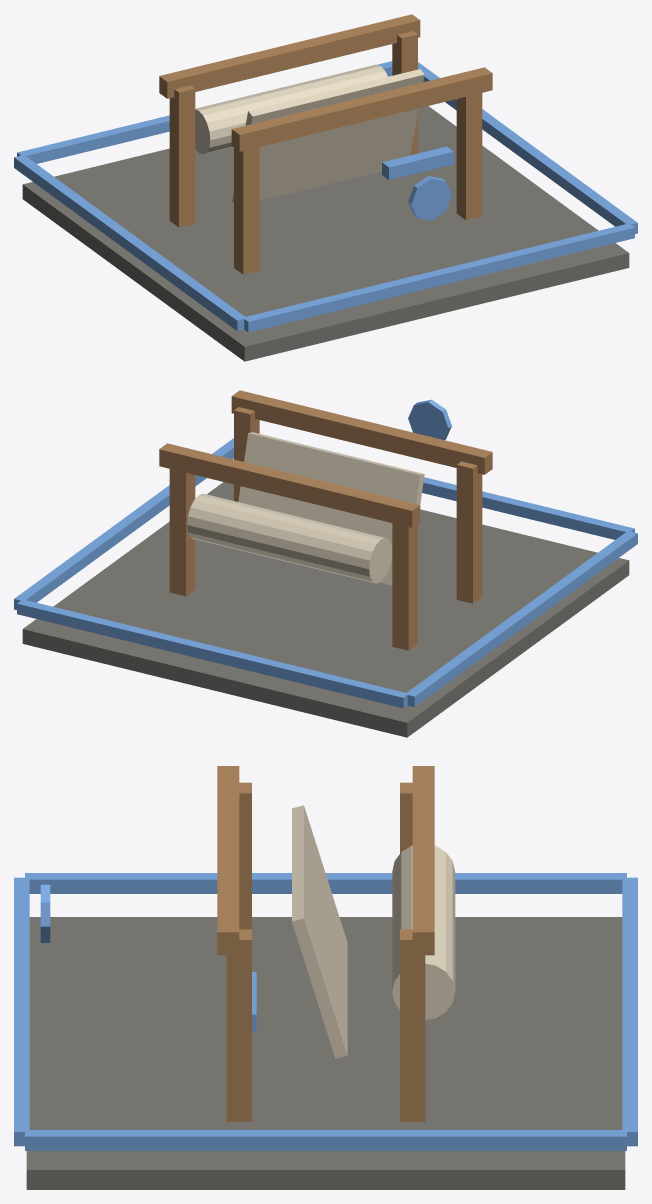
File: t4_loom.glb
3 views of the same model, one above another, from view 1: azimuth 30°, elevation 25°; view 2: azimuth 150°, elevation 25°; view 3: azimuth 270°, elevation 25° (orthographic). The views are drawn at different scales.
Visible parts, largest first — view 1: FootprintBase, ClothSheet, FrontBeam, TierFrontTrim, BackBeam, TierLeftTrim, ClothRoll, FramePost.001, TierRightTrim, FramePost.002, FramePost, TierBackTrim (+3 smaller); view 2: FootprintBase, ClothRoll, ClothSheet, BackBeam, TierBackTrim, FrontBeam, TierLeftTrim, FramePost, TierRightTrim, FramePost.001, FramePost.003, TierFrontTrim (+2 smaller); view 3: FootprintBase, TierRightTrim, TierLeftTrim, ClothSheet, ClothRoll, FramePost.002, FramePost.003, BackBeam, FrontBeam, TierBackTrim, TierFrontTrim, FramePost (+2 smaller).
Part boxes in pixels (bbox=[...]): FootprintBase: bbox=[22, 106, 629, 361]; ClothSheet: bbox=[232, 69, 424, 202]; FrontBeam: bbox=[231, 67, 492, 151]; TierFrontTrim: bbox=[244, 223, 634, 332]; BackBeam: bbox=[159, 14, 420, 98]; TierLeftTrim: bbox=[14, 155, 246, 331]; ClothRoll: bbox=[195, 64, 387, 154]; FramePost.001: bbox=[169, 85, 195, 227]; TierRightTrim: bbox=[418, 62, 637, 233]; FramePost.002: bbox=[456, 93, 482, 220]; FramePost: bbox=[234, 147, 259, 274]; TierBackTrim: bbox=[17, 61, 392, 163]; FootprintBase: bbox=[22, 482, 629, 737]; ClothRoll: bbox=[187, 493, 392, 583]; ClothSheet: bbox=[238, 432, 424, 585]; BackBeam: bbox=[159, 443, 420, 527]; TierBackTrim: bbox=[17, 599, 408, 708]; FrontBeam: bbox=[231, 390, 492, 474]; TierLeftTrim: bbox=[405, 531, 637, 707]; FramePost: bbox=[456, 461, 482, 603]; TierRightTrim: bbox=[14, 438, 233, 609]; FramePost.001: bbox=[392, 523, 417, 650]; FramePost.003: bbox=[169, 469, 195, 596]; TierFrontTrim: bbox=[422, 477, 634, 539]; FootprintBase: bbox=[26, 917, 625, 1189]; TierRightTrim: bbox=[25, 1130, 626, 1150]; TierLeftTrim: bbox=[25, 873, 626, 893]; ClothSheet: bbox=[292, 805, 347, 1058]; ClothRoll: bbox=[392, 845, 455, 1020]; FramePost.002: bbox=[226, 929, 251, 1121]; FramePost.003: bbox=[400, 929, 425, 1121]; BackBeam: bbox=[412, 766, 434, 955]; FrontBeam: bbox=[217, 766, 239, 955]; TierBackTrim: bbox=[622, 877, 637, 1146]; TierFrontTrim: bbox=[14, 877, 29, 1146]; FramePost: bbox=[239, 782, 251, 929].
Bounding box in the file's own units: 3.96 × 1.5 × 3.96.
